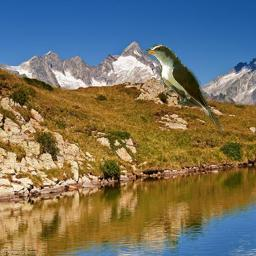Cuckoo: (146, 43, 224, 133)
